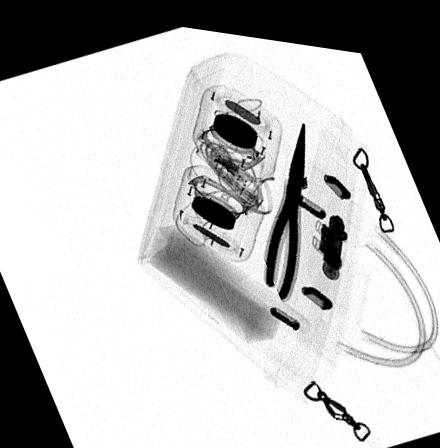Pliers: (262, 112, 305, 293)
